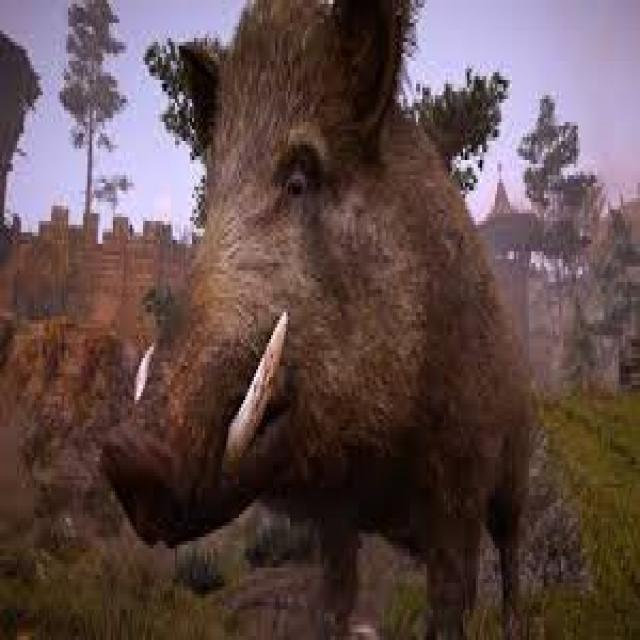Boar: (102, 0, 536, 610)
